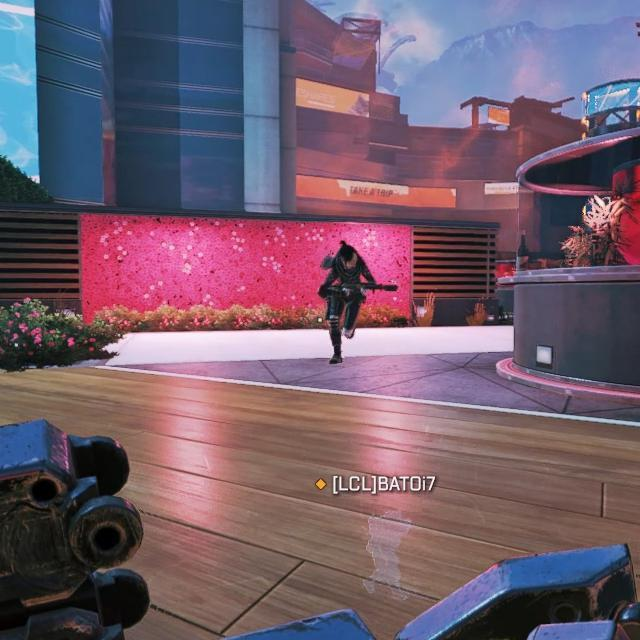avatar: (316, 237, 377, 367)
